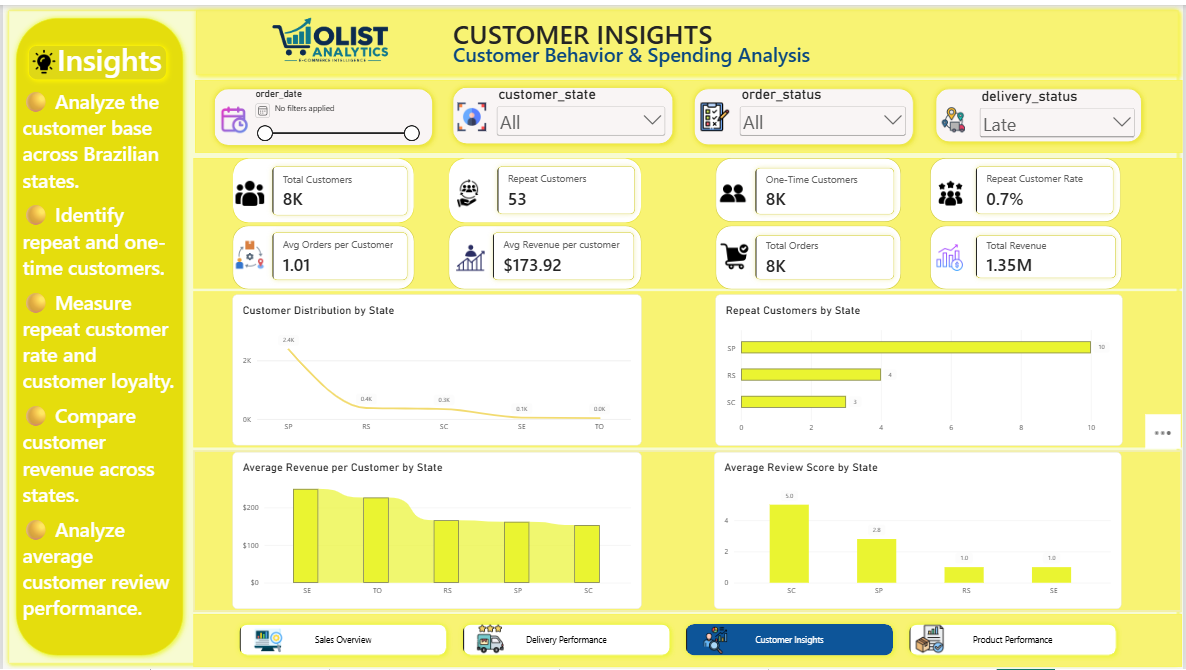

The page's visual inventory and layout, read from the dashboard file:
{"tool":"powerbi","page":{"name":"Customer Insights","canvas":[1920,1080],"ordinal":2},"visuals":[{"type":"shape","box":[0.9,0,1919.1,1080],"z":0},{"type":"shape","box":[304.2,0,1615.8,122.1],"z":1000},{"type":"textbox","box":[732,16.6,758.5,66.2],"z":2000},{"type":"textbox","box":[732,59.6,755.2,62.9],"z":3000},{"type":"shape","box":[311.6,121.6,1606.1,118.4],"z":4000},{"type":"shape","box":[310,250,1607.7,212.3],"z":5000},{"type":"shape","box":[310,465.9,1607.6,253.5],"z":6000},{"type":"shape","box":[310,723.5,1607.6,262.9],"z":7000},{"type":"shape","box":[310,990,1607.8,86.1],"z":8000},{"type":"shape","box":[374,250,296,106],"z":9000},{"type":"shape","box":[374,358,296,104],"z":10000},{"type":"shape","box":[724,250,314,106],"z":11000},{"type":"shape","box":[724,358,314,104],"z":12000},{"type":"shape","box":[1158,250,302,104],"z":13000},{"type":"shape","box":[1158,358,302,104],"z":14000},{"type":"shape","box":[1508,250,310,104],"z":15000},{"type":"shape","box":[1508,358,312,104],"z":16000},{"type":"cardVisual","fields":{"Data":["Ecommerce.Total Customers"]},"box":[428,252,242,102],"z":17000},{"type":"cardVisual","fields":{"Data":["Ecommerce.Repeat Customers"]},"box":[792,252,246,100],"z":18000},{"type":"cardVisual","fields":{"Data":["Ecommerce.One-Time Customers"]},"box":[1212,254,248,98],"z":19000},{"type":"cardVisual","fields":{"Data":["Ecommerce.Repeat Customer Rate"]},"box":[1572,252,246,100],"z":20000},{"type":"cardVisual","fields":{"Data":["Ecommerce.Average Orders per Customer"]},"box":[428,358,242,100],"z":21000},{"type":"cardVisual","fields":{"Data":["Ecommerce.Average Revenue per Customer"]},"box":[786,358,252,100],"z":22000},{"type":"cardVisual","fields":{"Data":["Ecommerce.Total Orders"]},"box":[1212,364,248,94],"z":23000},{"type":"cardVisual","fields":{"Data":["Ecommerce.Total Revenue"]},"box":[1572,364,250,92],"z":24000},{"type":"lineChart","title":"Customer Distribution by State","fields":{"Category":["Ecommerce.customer_state"],"Y":["Ecommerce.Total Customers"]},"box":[372.5,470,665,245],"z":25000},{"type":"clusteredBarChart","title":"Repeat Customers by State","fields":{"Category":["Ecommerce.customer_state"],"Y":["Ecommerce.Repeat Customers"]},"box":[1158,470,662,246],"z":26000},{"type":"ribbonChart","title":"Average Revenue per Customer by State","fields":{"Category":["Ecommerce.customer_state"],"Y":["Ecommerce.Average Revenue per Customer"]},"box":[372.5,727.5,665,255],"z":27000},{"type":"clusteredColumnChart","title":"Average Review Score by State","fields":{"Category":["Ecommerce.customer_state"],"Y":["Ecommerce.Average Review Score"]},"box":[1157.5,726.2,662.5,255],"z":28000},{"type":"image","box":[372,282,61.7,46.7],"z":29000},{"type":"image","box":[724,282,62,46],"z":30000},{"type":"image","box":[1156,282,61.7,46.7],"z":31000},{"type":"image","box":[1510,282,62,46],"z":32000},{"type":"image","box":[372,384,61.7,46.7],"z":33000},{"type":"image","box":[730,388,61.7,46.7],"z":34000},{"type":"image","box":[1158,386,61.7,46.7],"z":35000},{"type":"image","box":[1504,388,74,46],"z":36000},{"type":"shape","box":[335,126,373.8,110.8],"z":37000},{"type":"shape","box":[723,125,376.9,110.8],"z":38000},{"type":"shape","box":[1116,126,375,110],"z":39000},{"type":"shape","box":[1509,128,353.3,105],"z":40000},{"type":"slicer","fields":{"Values":["Ecommerce.customer_state"]},"box":[798,132,284,96],"z":41000},{"type":"slicer","fields":{"Values":["Ecommerce.order_status"]},"box":[1194,132,280,104],"z":42000},{"type":"slicer","fields":{"Values":["Ecommerce.delivery_status"]},"box":[1584,134,262,104],"z":43000},{"type":"image","box":[731.7,158.3,61.7,46.7],"z":44000},{"type":"image","box":[1515,163.3,61.7,46.7],"z":45000},{"type":"image","box":[1126.7,158.3,61.7,46.7],"z":46000},{"type":"image","box":[343.3,163.3,61.7,46.7],"z":47000},{"type":"slicer","fields":{"Values":["Ecommerce.order_date"]},"box":[401.7,133.3,278.3,95],"z":48000},{"type":"pageNavigator","box":[375,997.5,1445,69.2],"z":49000},{"type":"image","box":[400.8,1010.2,62.9,46.4],"z":50000},{"type":"image","box":[761.8,1006.9,62.9,46.4],"z":51000},{"type":"image","box":[1126.1,1010.2,62.9,46.4],"z":52000},{"type":"image","box":[1477.2,1006.9,62.9,46.4],"z":53000},{"type":"image","box":[313.3,0,440,113.3],"z":54000},{"type":"shape","box":[12.5,12.5,290,1055],"z":55000},{"type":"shape","box":[30.6,56.9,243.8,75],"z":56000},{"type":"image","box":[46,58,40.7,67.3],"z":57000},{"type":"textbox","box":[30.7,135.3,254.7,872],"z":58000},{"type":"textbox","box":[86.7,56.7,188,69.3],"z":59000}]}

Visuals, with their boxes in screenshot pixels (x1, y1, x2, y2), scaled from the page's 1920x1080 canvas onto the 1186x670 screenshot:
shape: (left=1, top=0, right=1185, bottom=669)
shape: (left=188, top=0, right=1185, bottom=76)
textbox: (left=452, top=10, right=921, bottom=51)
textbox: (left=452, top=37, right=919, bottom=76)
shape: (left=192, top=75, right=1185, bottom=149)
shape: (left=191, top=155, right=1185, bottom=287)
shape: (left=191, top=289, right=1185, bottom=446)
shape: (left=191, top=449, right=1185, bottom=612)
shape: (left=191, top=614, right=1185, bottom=668)
shape: (left=231, top=155, right=414, bottom=221)
shape: (left=231, top=222, right=414, bottom=287)
shape: (left=447, top=155, right=641, bottom=221)
shape: (left=447, top=222, right=641, bottom=287)
shape: (left=715, top=155, right=902, bottom=220)
shape: (left=715, top=222, right=902, bottom=287)
shape: (left=932, top=155, right=1123, bottom=220)
shape: (left=932, top=222, right=1124, bottom=287)
cardVisual - Ecommerce.Total Customers: (left=264, top=156, right=414, bottom=220)
cardVisual - Ecommerce.Repeat Customers: (left=489, top=156, right=641, bottom=218)
cardVisual - Ecommerce.One-Time Customers: (left=749, top=158, right=902, bottom=218)
cardVisual - Ecommerce.Repeat Customer Rate: (left=971, top=156, right=1123, bottom=218)
cardVisual - Ecommerce.Average Orders per Customer: (left=264, top=222, right=414, bottom=284)
cardVisual - Ecommerce.Average Revenue per Customer: (left=486, top=222, right=641, bottom=284)
cardVisual - Ecommerce.Total Orders: (left=749, top=226, right=902, bottom=284)
cardVisual - Ecommerce.Total Revenue: (left=971, top=226, right=1125, bottom=283)
"Customer Distribution by State" lineChart: (left=230, top=292, right=641, bottom=444)
"Repeat Customers by State" clusteredBarChart: (left=715, top=292, right=1124, bottom=444)
"Average Revenue per Customer by State" ribbonChart: (left=230, top=451, right=641, bottom=610)
"Average Review Score by State" clusteredColumnChart: (left=715, top=451, right=1124, bottom=609)
image: (left=230, top=175, right=268, bottom=204)
image: (left=447, top=175, right=486, bottom=203)
image: (left=714, top=175, right=752, bottom=204)
image: (left=933, top=175, right=971, bottom=203)
image: (left=230, top=238, right=268, bottom=267)
image: (left=451, top=241, right=489, bottom=270)
image: (left=715, top=239, right=753, bottom=268)
image: (left=929, top=241, right=975, bottom=269)
shape: (left=207, top=78, right=438, bottom=147)
shape: (left=447, top=78, right=679, bottom=146)
shape: (left=689, top=78, right=921, bottom=146)
shape: (left=932, top=79, right=1150, bottom=145)
slicer - Ecommerce.customer_state: (left=493, top=82, right=668, bottom=141)
slicer - Ecommerce.order_status: (left=738, top=82, right=911, bottom=146)
slicer - Ecommerce.delivery_status: (left=978, top=83, right=1140, bottom=148)
image: (left=452, top=98, right=490, bottom=127)
image: (left=936, top=101, right=974, bottom=130)
image: (left=696, top=98, right=734, bottom=127)
image: (left=212, top=101, right=250, bottom=130)
slicer - Ecommerce.order_date: (left=248, top=83, right=420, bottom=142)
pageNavigator: (left=232, top=619, right=1124, bottom=662)
image: (left=248, top=627, right=286, bottom=655)
image: (left=471, top=625, right=509, bottom=653)
image: (left=696, top=627, right=734, bottom=655)
image: (left=912, top=625, right=951, bottom=653)
image: (left=194, top=0, right=465, bottom=70)
shape: (left=8, top=8, right=187, bottom=662)
shape: (left=19, top=35, right=169, bottom=82)
image: (left=28, top=36, right=54, bottom=78)
textbox: (left=19, top=84, right=176, bottom=625)
textbox: (left=54, top=35, right=170, bottom=78)
